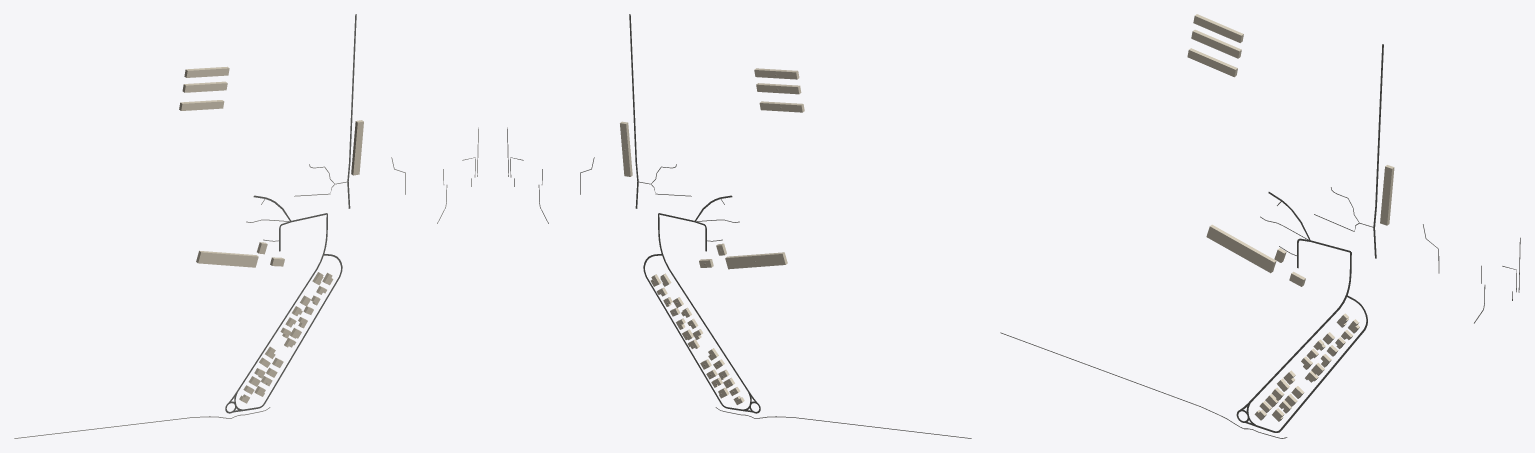
The model's file is historic-palestine-10_32_3518_3264.glb.
3 renders of one model, left to right at view 1: azimuth 30°, elevation 25°; view 2: azimuth 150°, elevation 25°; view 3: azimuth 330°, elevation 25°, orthographic. The views are drawn at different scales.
Visible parts, largest first — view 1: Building_.022, Building_.025; view 2: Building_.022, Building_.025; view 3: Building_.022, Building_.025, Building_.027, Building_.026, Building_.028, Road סלעית.
Part boxes in pixels (x1,y1,x2,y2): Building_.022: (196, 250, 258, 267); Building_.025: (351, 120, 363, 175); Building_.022: (725, 252, 787, 269); Building_.025: (620, 121, 632, 176); Building_.022: (1206, 224, 1276, 273); Building_.025: (1380, 165, 1394, 225); Building_.027: (1191, 29, 1241, 58); Building_.026: (1193, 14, 1243, 42); Building_.028: (1187, 48, 1237, 77); Road סלעית: (1373, 44, 1383, 258).
Bounding box in the file's own units: 954 × 735 × 8.7.
